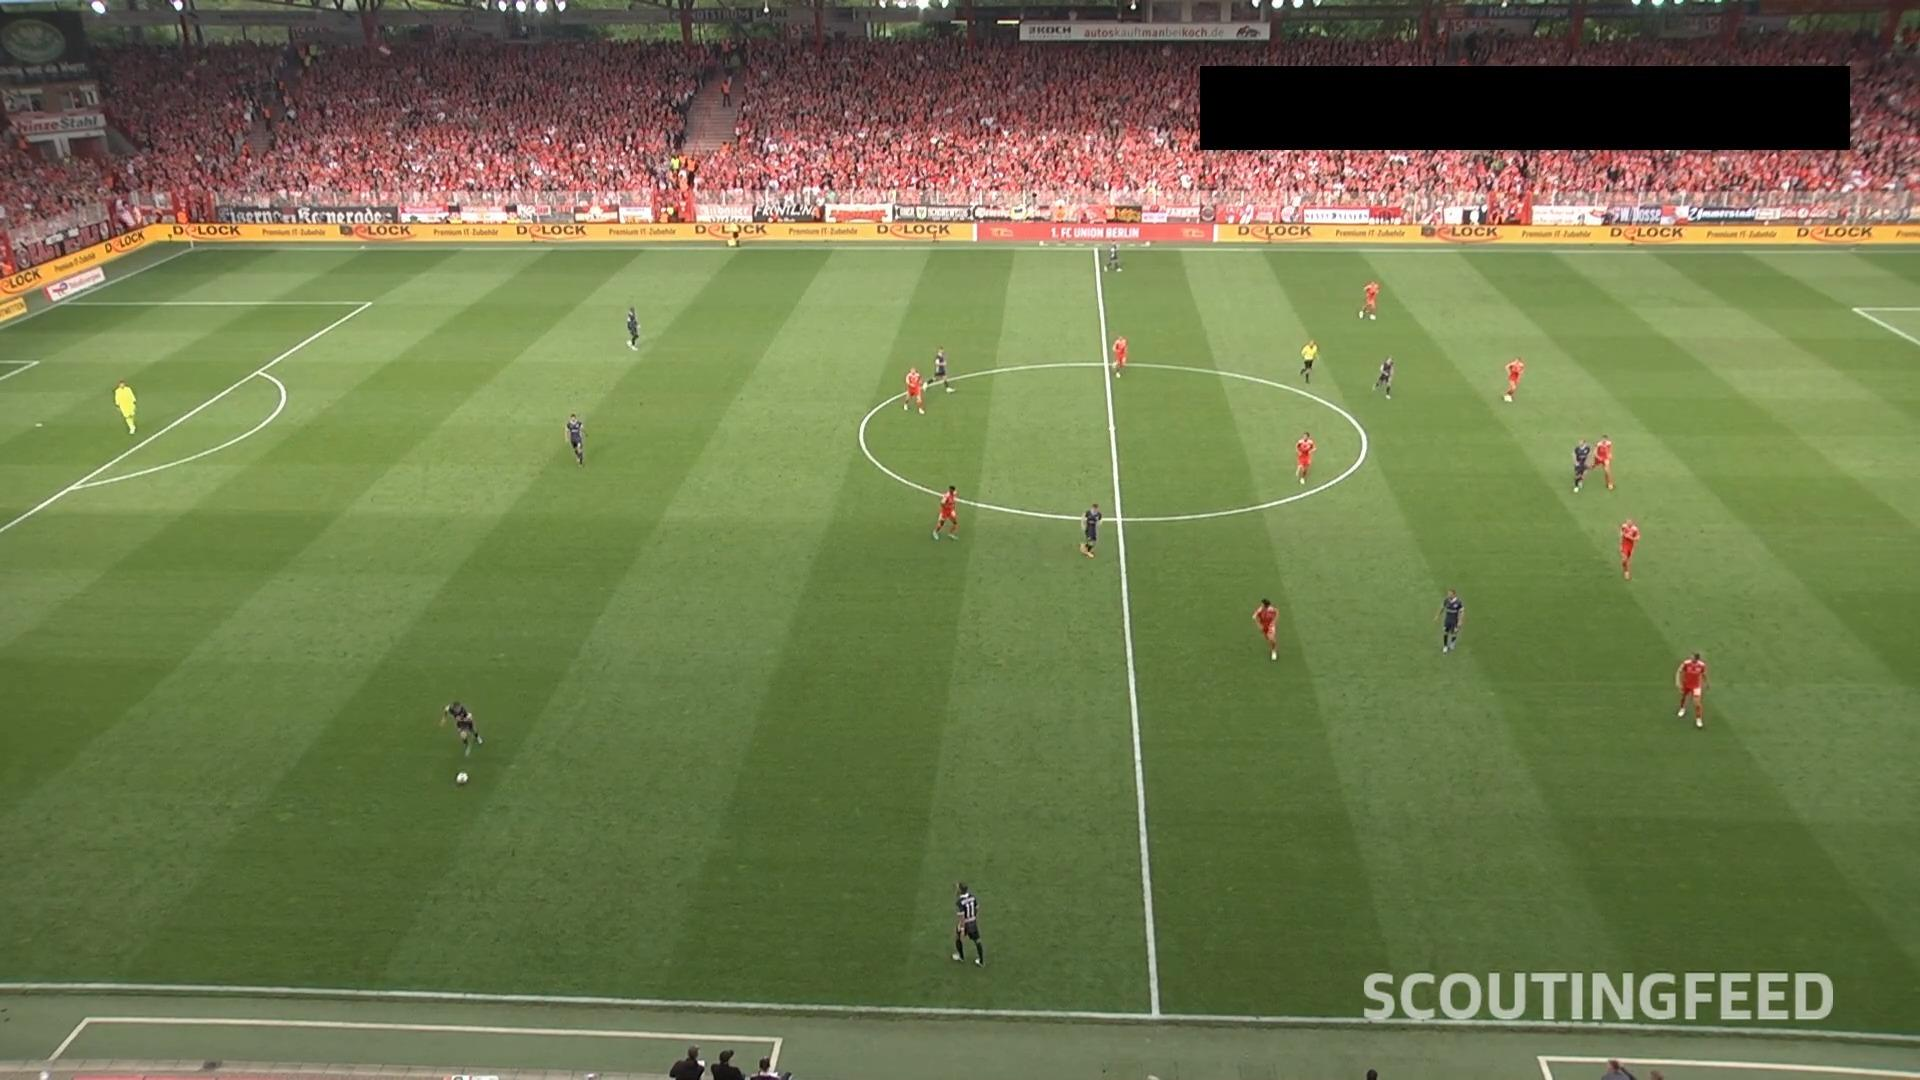ball: (454, 770, 469, 786)
